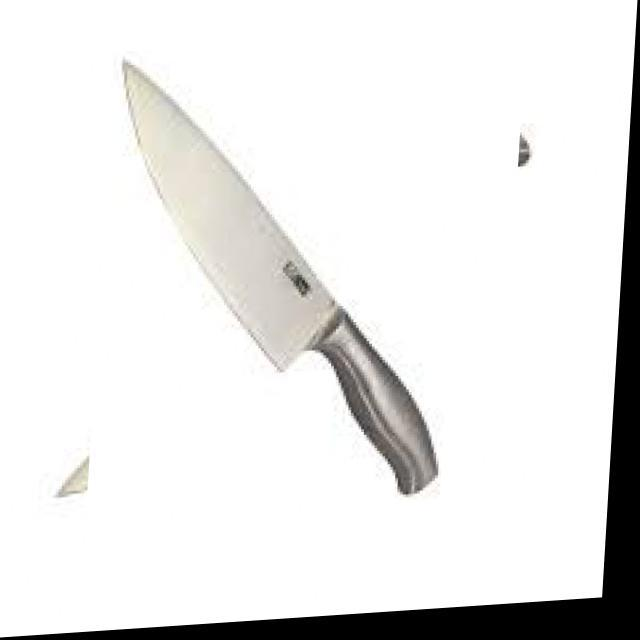knife: (121, 58, 440, 497)
